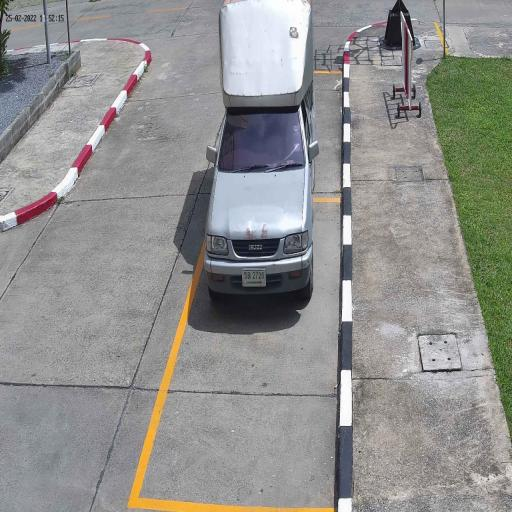car: (202, 0, 318, 303)
